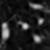node: (1, 21, 11, 43), (30, 33, 43, 44), (28, 2, 43, 11), (19, 21, 30, 31), (36, 17, 46, 26)
